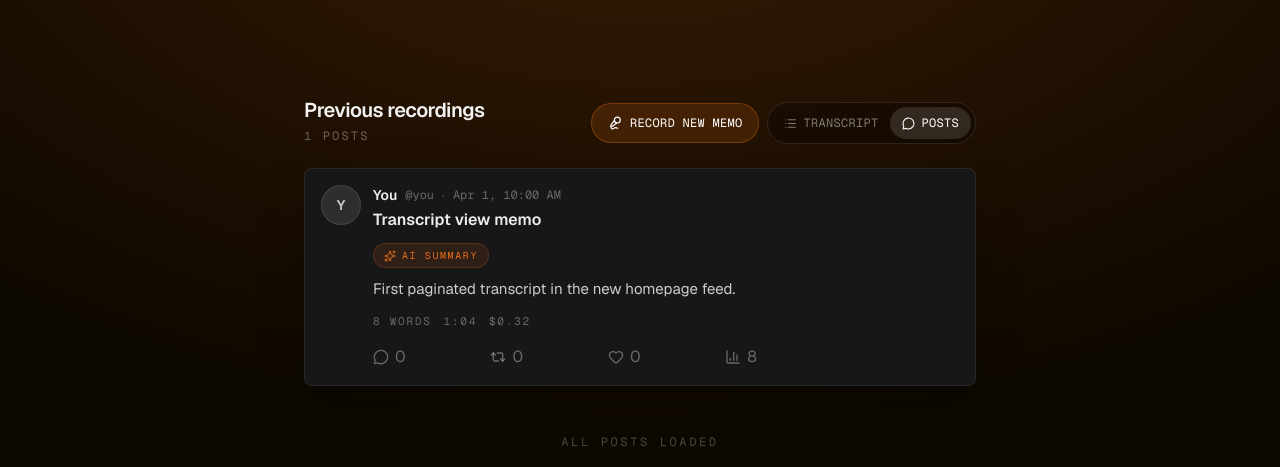
Test case: TranscriptFeedPanel › can switch from the default post feed to transcript cards
The width and height of the screenshot is (1280, 467).
Check: the element named "Personal memo posts" is shown, box [304,97,976,450]
Click the button "Transcript": coordinates (832, 123) [772,107,890,139]
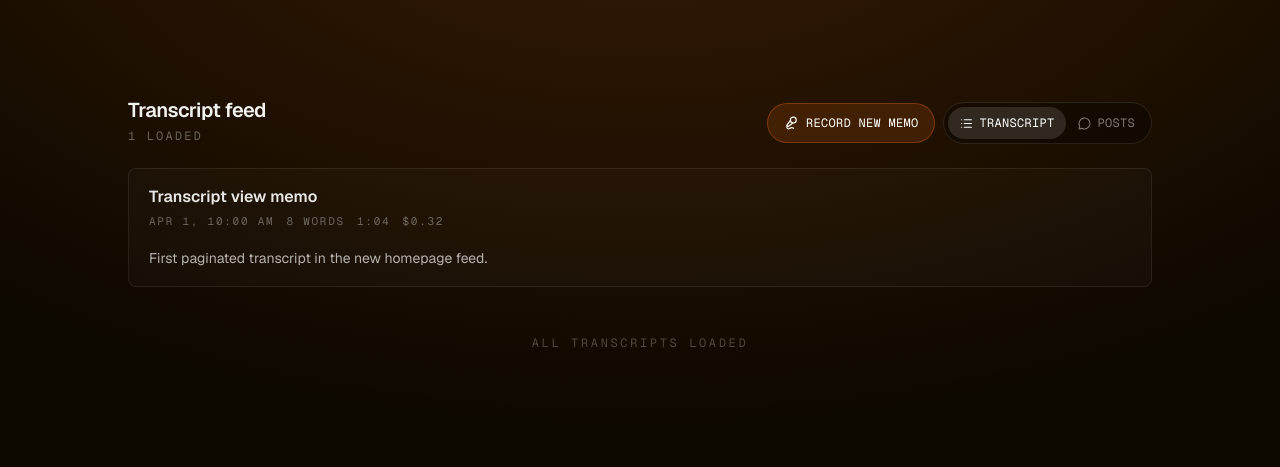
Check: the text "First paginated transcript in the new homepage feed." is shown, box [149,248,487,266]
Check: the element named "Voice memo transcripts" is shown, box [128,97,1152,350]
Check: the heading "Transcript feed" is shown, box [128,96,266,124]
